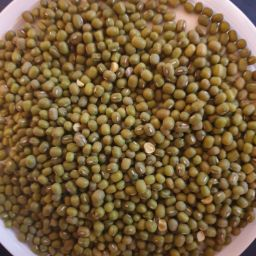Green gram dal(moong): (66, 1, 200, 256), (142, 8, 256, 256), (32, 9, 112, 252), (2, 33, 62, 252)
